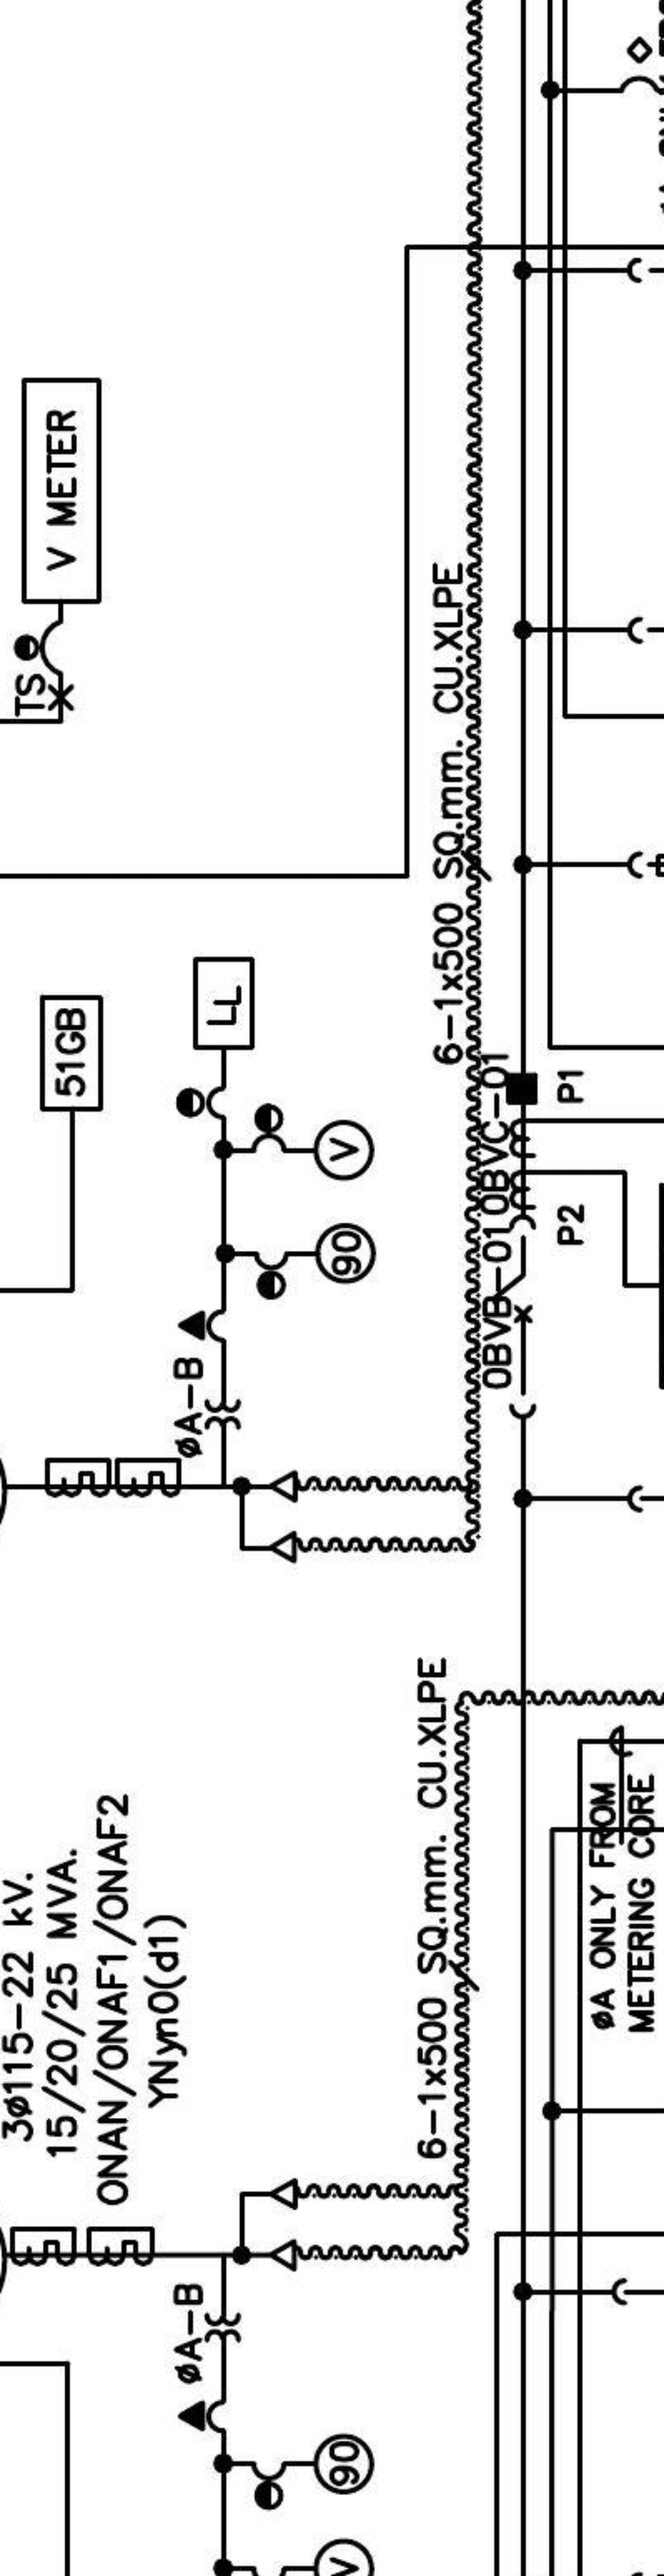22_breaker: (491, 1214, 537, 1421)
LL: (192, 956, 255, 1051)
terminator_double: (238, 2177, 299, 2274), (238, 1469, 299, 1564)
v_m: (312, 1119, 376, 1183)
v_m_digital: (20, 376, 104, 606)
